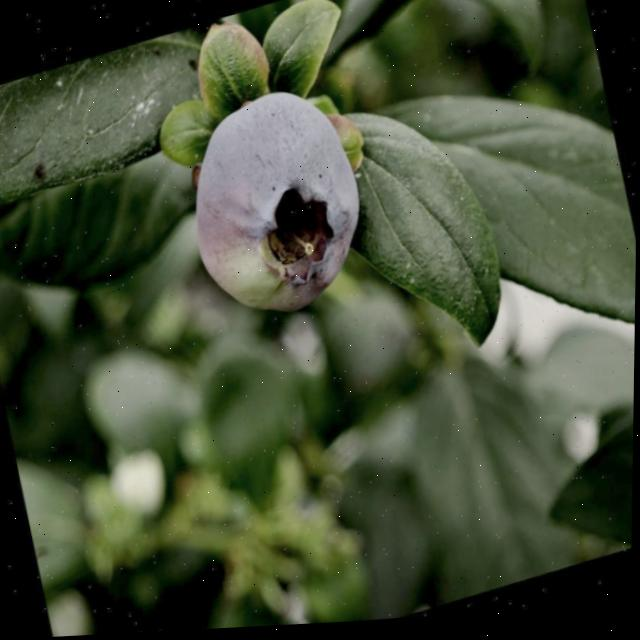Semi-RipeBlueBerry: (163, 65, 386, 338)
